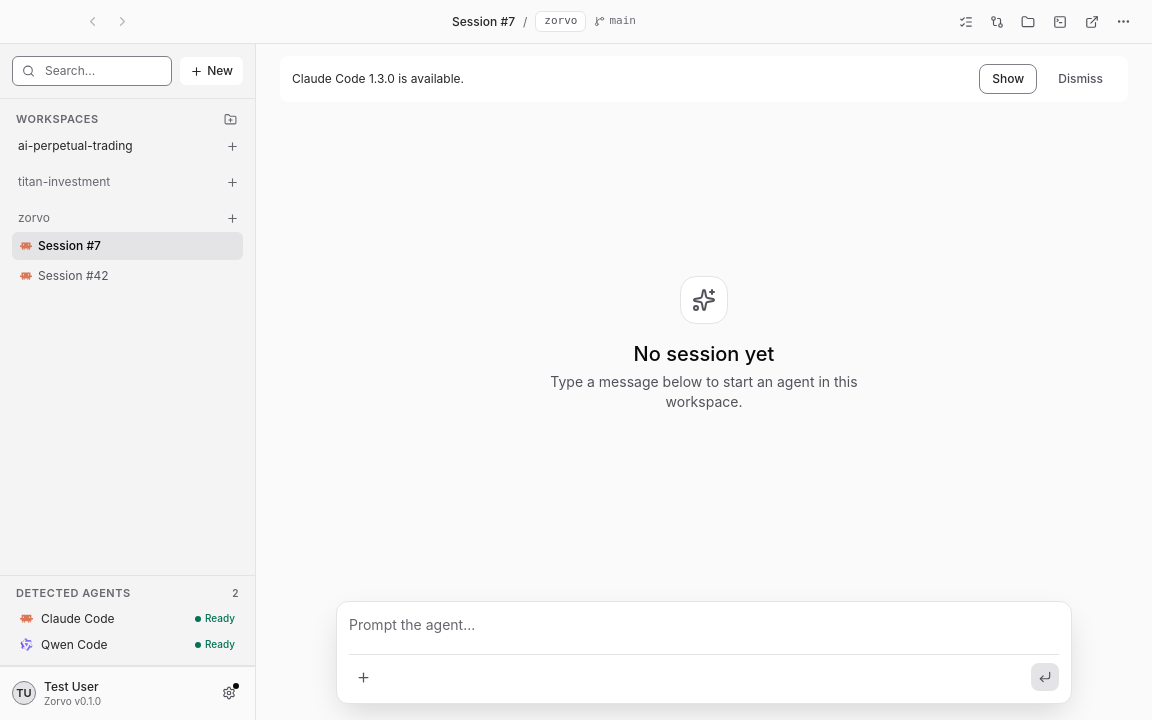
Scenario: Session lifecycle › keeps a numbered name the user chose when the first message is sent
Click the button "Session #42" at (128,276), box [12, 262, 243, 290]
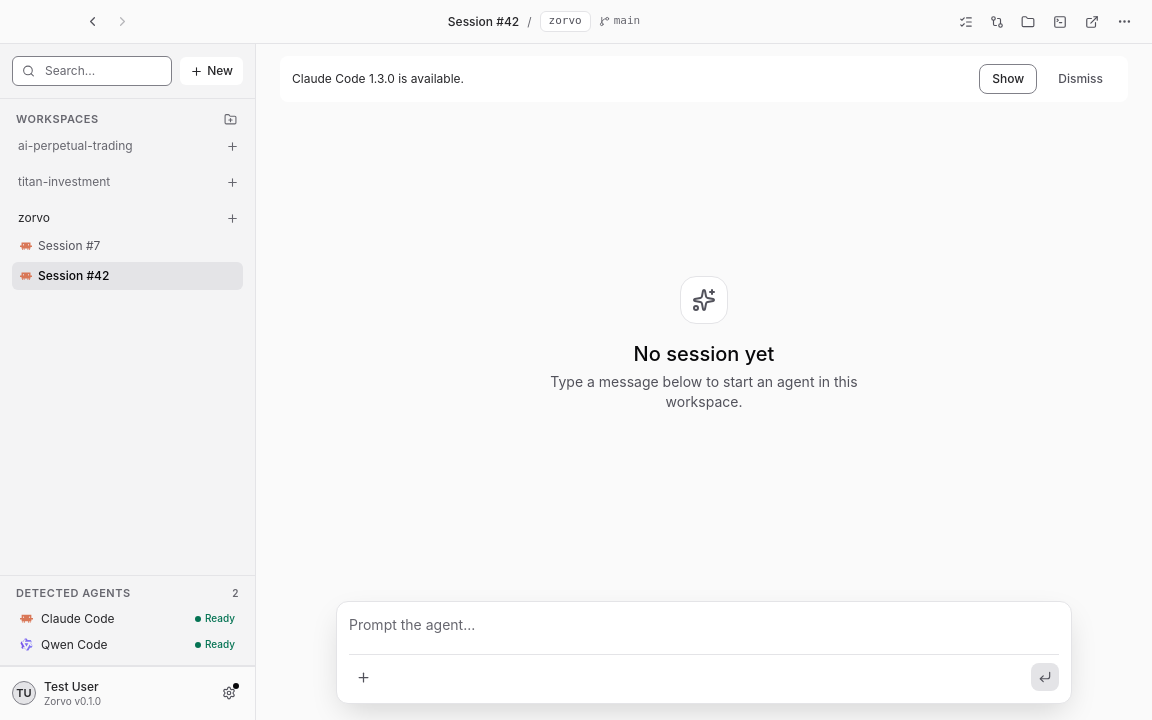
Type "first question" into the text box labelled "Prompt" at (704,627), box [349, 614, 1059, 640]
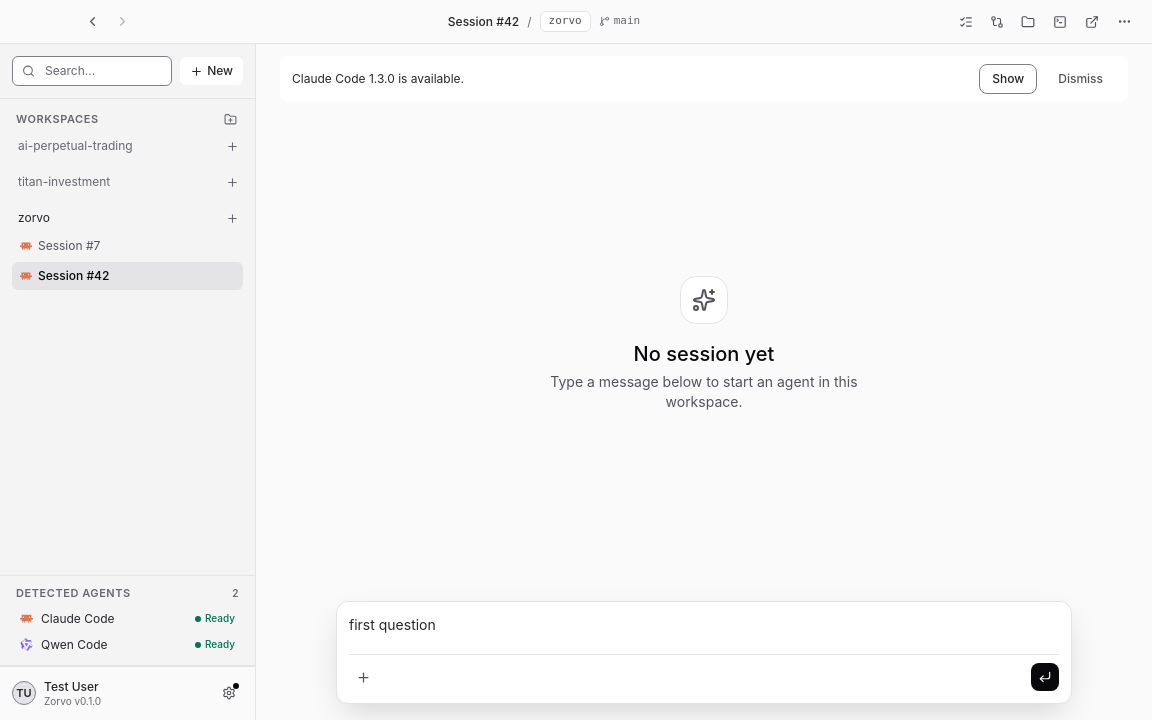
Press Enter in the text box named "Prompt", box [349, 614, 1059, 640]
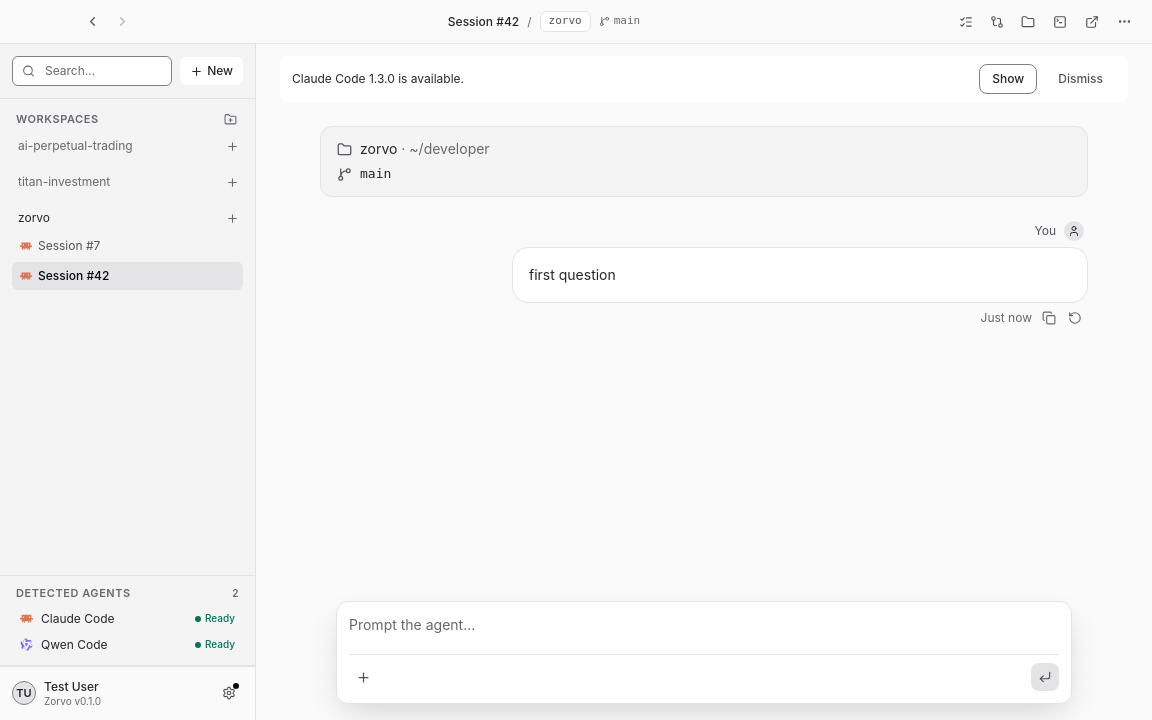
Click the button "Session #7" at (128,246), box [12, 232, 243, 260]
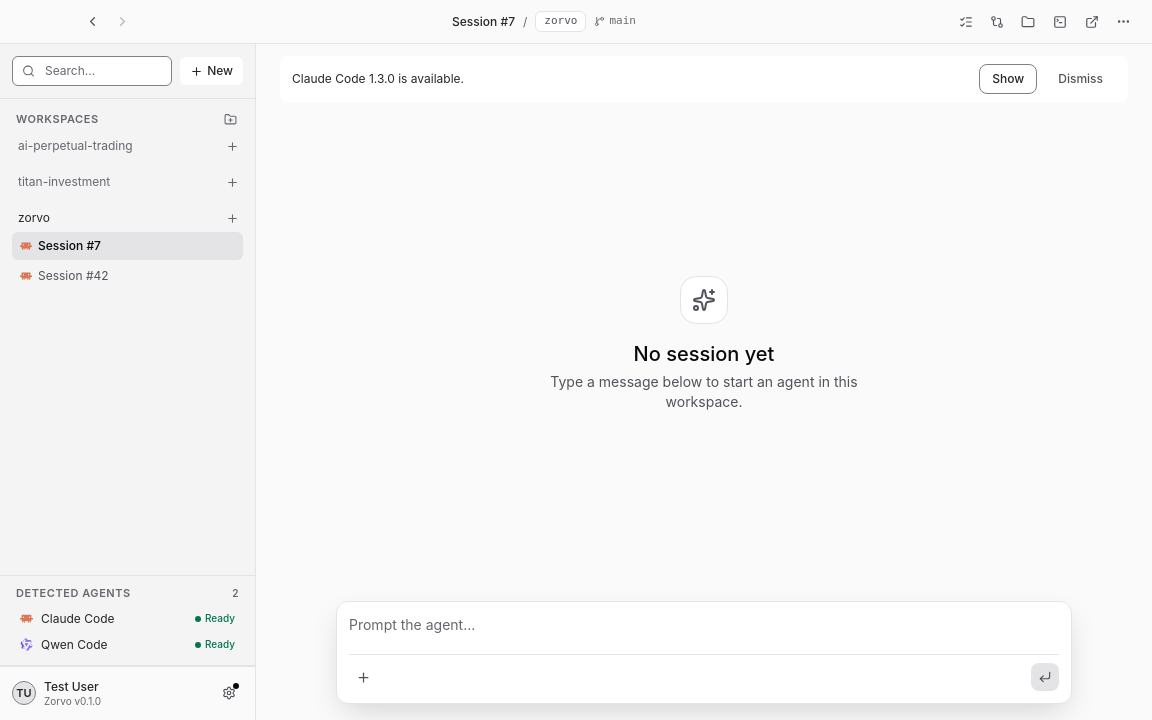
Type "second question" into the text box labelled "Prompt" at (704,627), box [349, 614, 1059, 640]
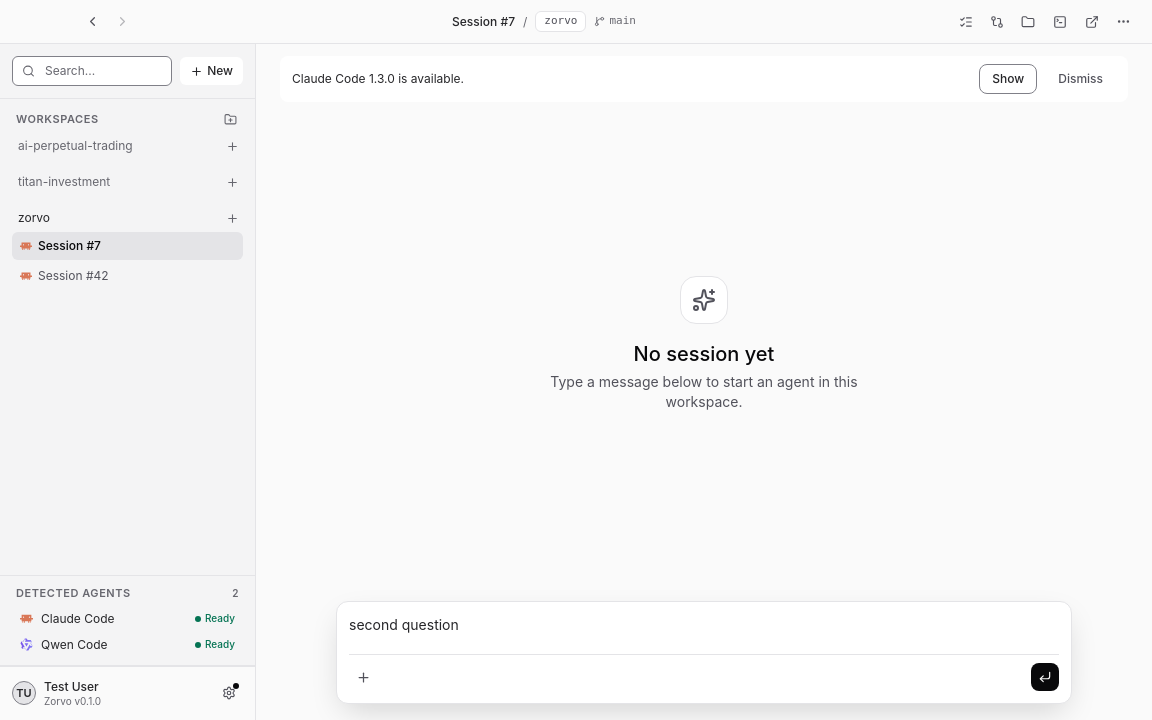
Press Enter in the text box named "Prompt", box [349, 614, 1059, 640]
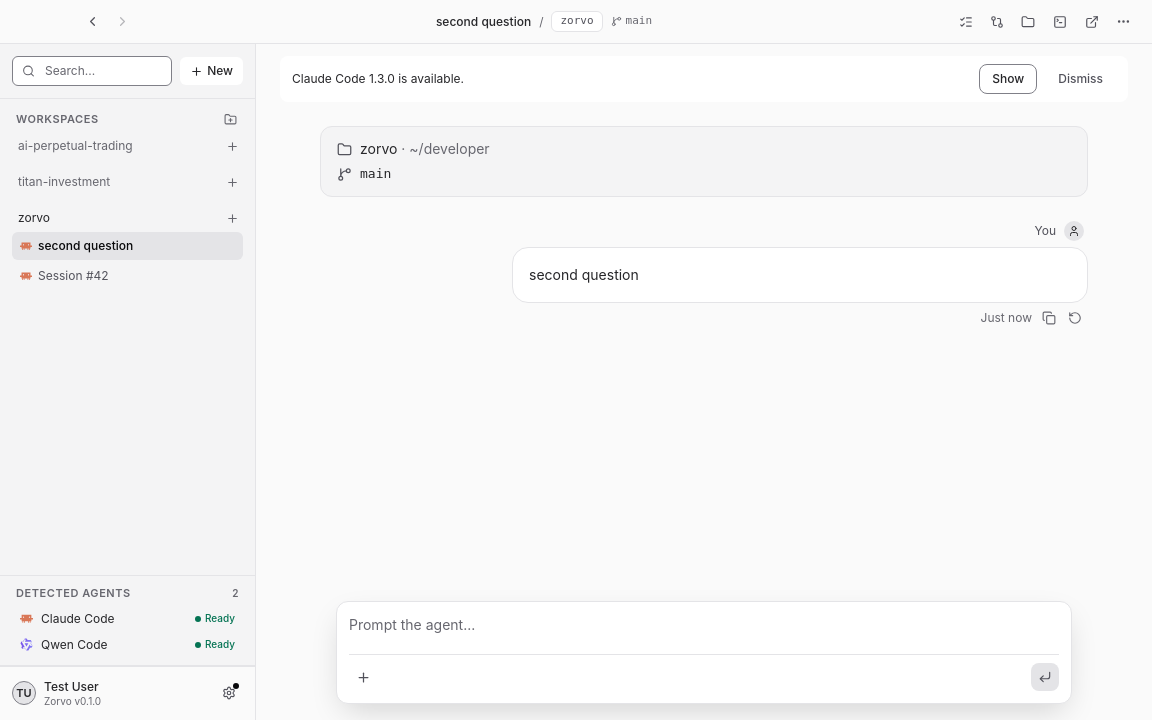
Expected: the text "Session #42" is shown, [38, 268, 109, 284]
Expected: the 2nd text "second question" is shown, [38, 238, 133, 254]
